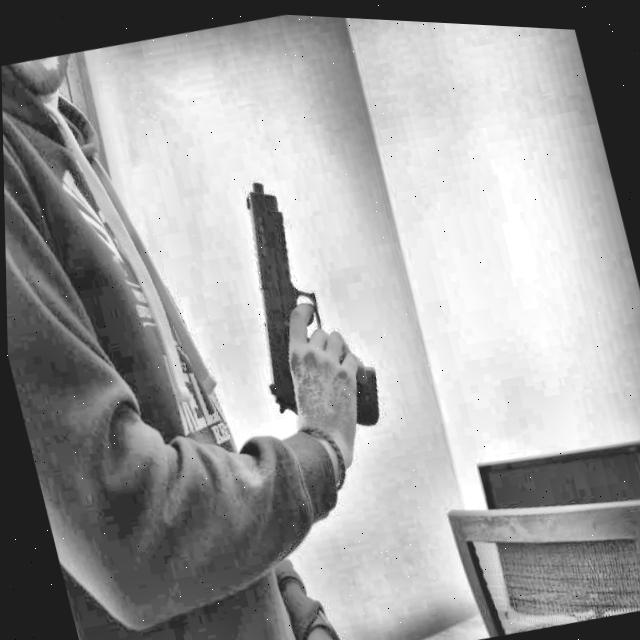pistol: (231, 175, 390, 438)
